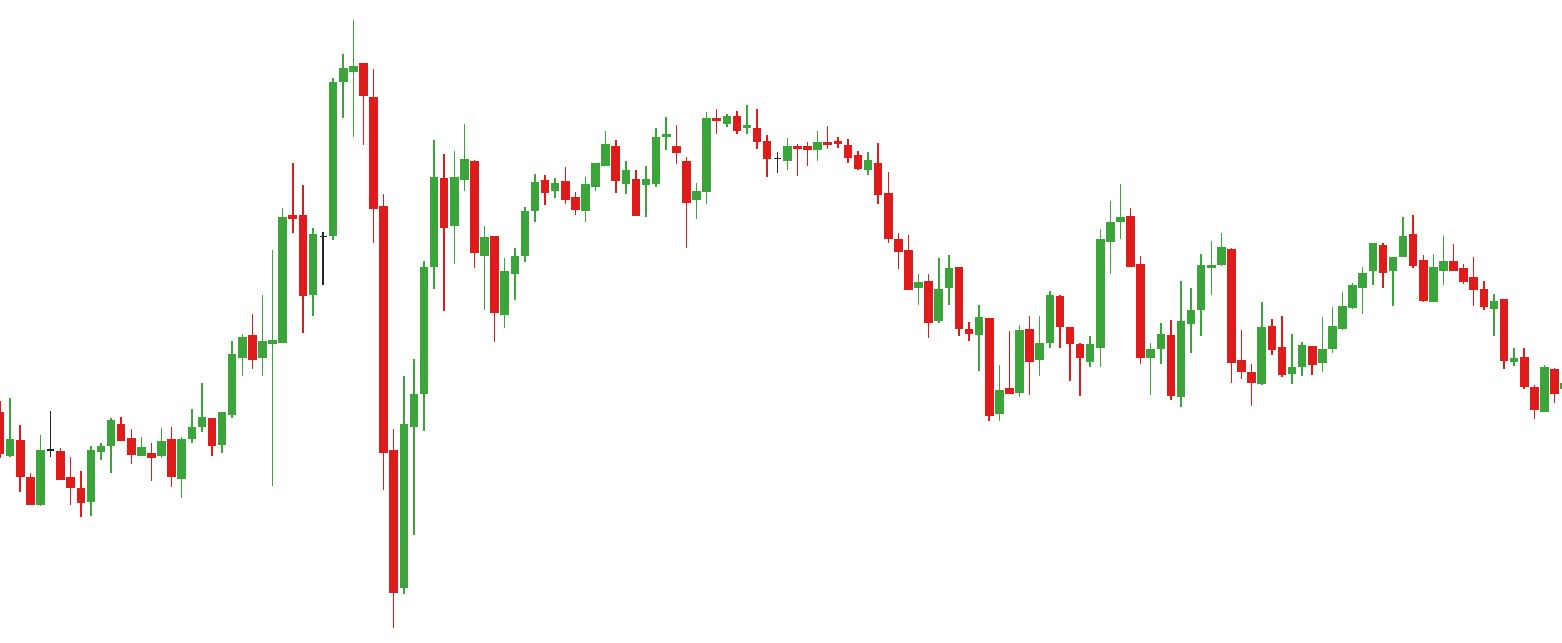buy: (265, 244, 411, 638), (441, 167, 511, 354), (1072, 262, 1165, 396), (631, 147, 701, 255)
sell: (1368, 201, 1420, 289)
